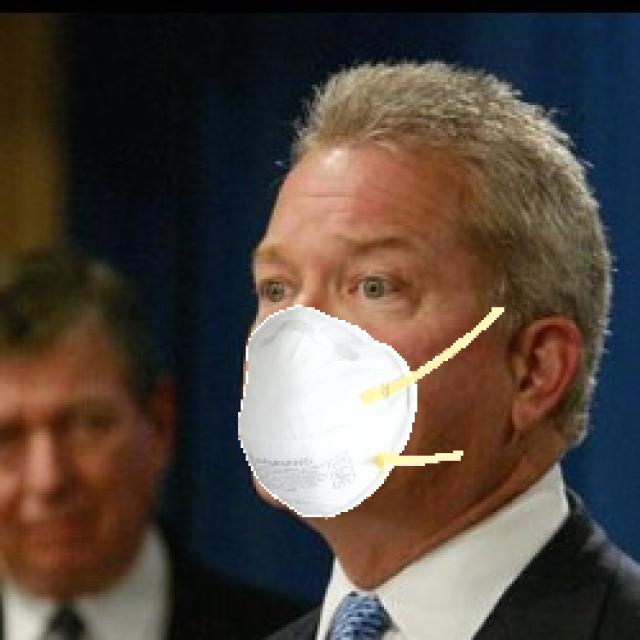mask: (189, 289, 493, 526)
